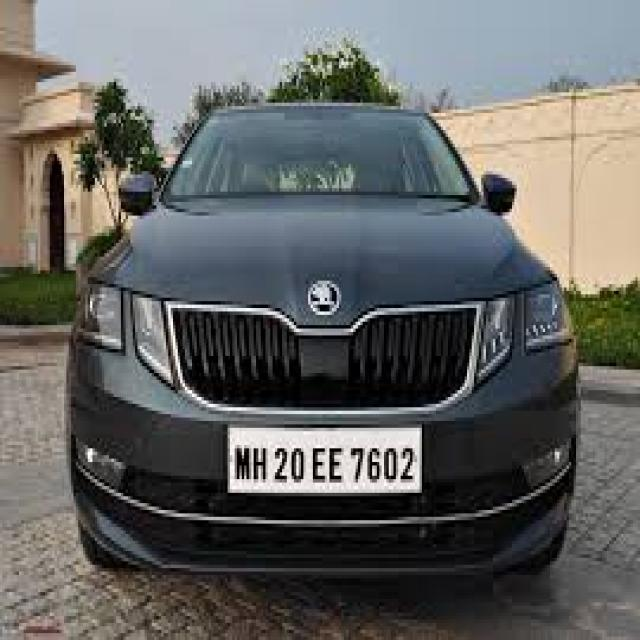Number-Plate: (230, 425, 420, 488)
